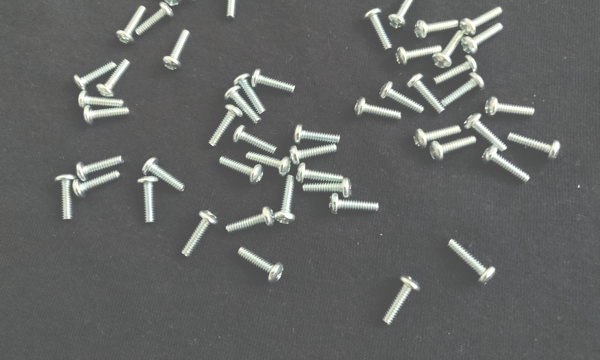shortscrew: (448, 238, 497, 286), (383, 274, 421, 326), (481, 145, 530, 182), (181, 211, 218, 258), (238, 247, 284, 284), (464, 113, 507, 152), (441, 73, 485, 108), (407, 74, 445, 114), (508, 134, 562, 162), (208, 105, 243, 148), (142, 158, 186, 192), (224, 86, 261, 125), (380, 81, 424, 113), (233, 125, 279, 155), (462, 23, 505, 55), (234, 73, 266, 115), (219, 156, 265, 185), (97, 59, 131, 98), (226, 207, 275, 234), (433, 55, 477, 85), (460, 7, 505, 36), (136, 2, 174, 36), (73, 62, 116, 92), (73, 171, 120, 198), (75, 156, 125, 181), (364, 8, 392, 52), (485, 97, 537, 120), (246, 151, 292, 177), (116, 5, 145, 46), (432, 31, 464, 68), (431, 137, 476, 163), (163, 29, 190, 72), (329, 194, 380, 216), (275, 175, 297, 226), (354, 97, 402, 120), (252, 69, 296, 94), (414, 126, 461, 149), (55, 174, 78, 221), (302, 178, 353, 199), (397, 45, 443, 67), (296, 163, 344, 184), (289, 145, 337, 166), (415, 20, 461, 41), (293, 124, 341, 144), (138, 177, 158, 224), (388, 0, 419, 30), (83, 106, 130, 125), (78, 90, 124, 107), (223, 0, 243, 21), (165, 0, 183, 8), (186, 0, 205, 3)
